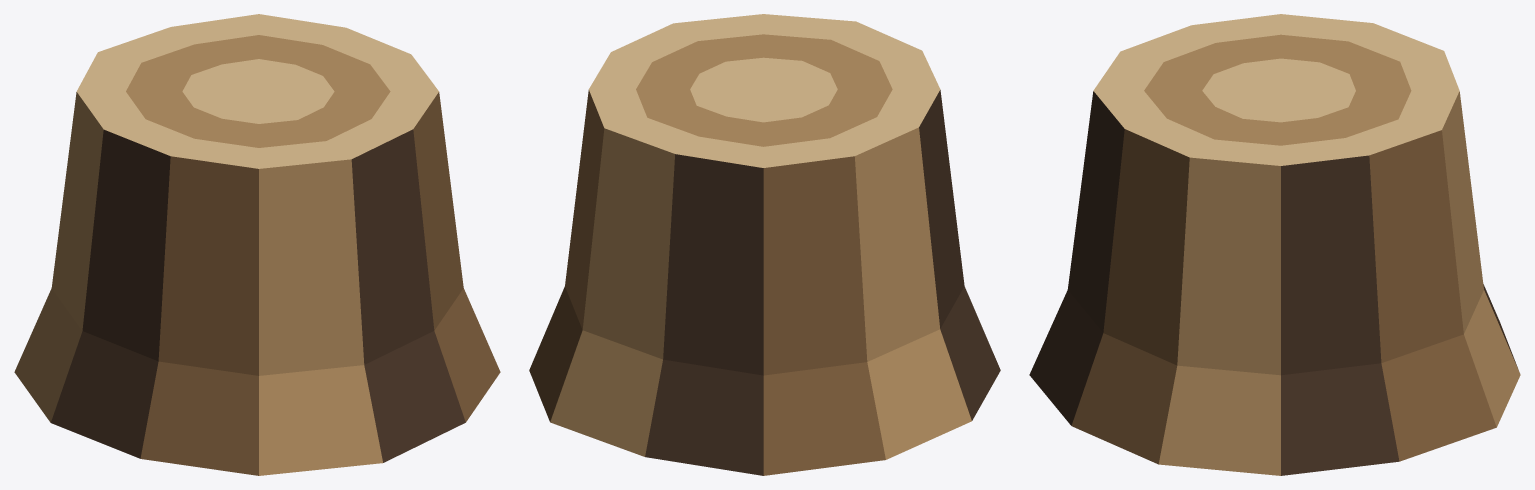
The model's file is TW_STUMP_CUT_SMALL_A_LOD0.glb.
3 views of the same model, side by side, from view 1: azimuth 30°, elevation 25°; view 2: azimuth 150°, elevation 25°; view 3: azimuth 270°, elevation 25° (orthographic).
Parts seen in each view (by area): view 1: TW_STUMP_CUT_SMALL_A_LOD0; view 2: TW_STUMP_CUT_SMALL_A_LOD0; view 3: TW_STUMP_CUT_SMALL_A_LOD0.
Boxes of the visible parts, x1,y1,x2,y2 form: TW_STUMP_CUT_SMALL_A_LOD0: [14, 14, 500, 475]; TW_STUMP_CUT_SMALL_A_LOD0: [529, 14, 1000, 475]; TW_STUMP_CUT_SMALL_A_LOD0: [1029, 14, 1520, 475].
Bounding box in the file's own units: 0.7385 × 0.48 × 0.7519.
Materials: 1 (1 with a texture image).
